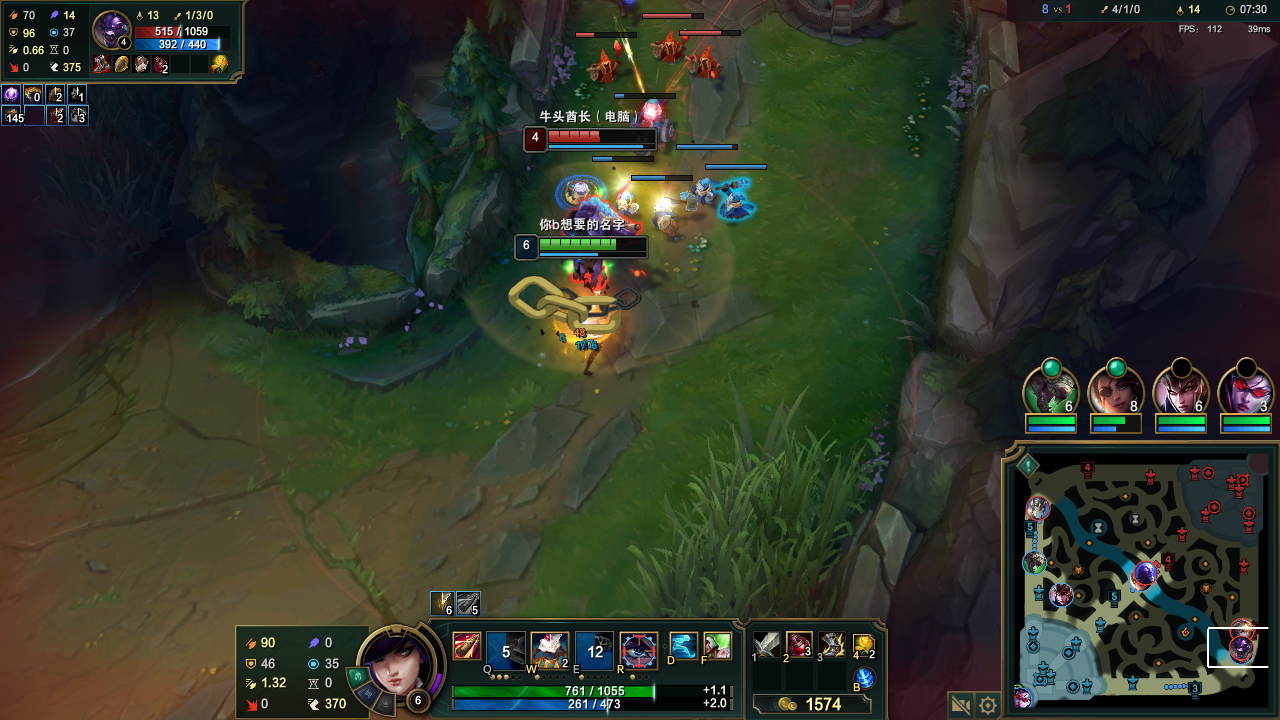DFXB: (651, 33, 678, 62), (589, 55, 615, 80), (693, 53, 719, 77)
DFYX: (548, 129, 613, 142)
WFXB: (630, 109, 676, 148), (716, 183, 754, 222), (652, 198, 684, 233), (619, 189, 645, 218), (695, 177, 715, 203)
